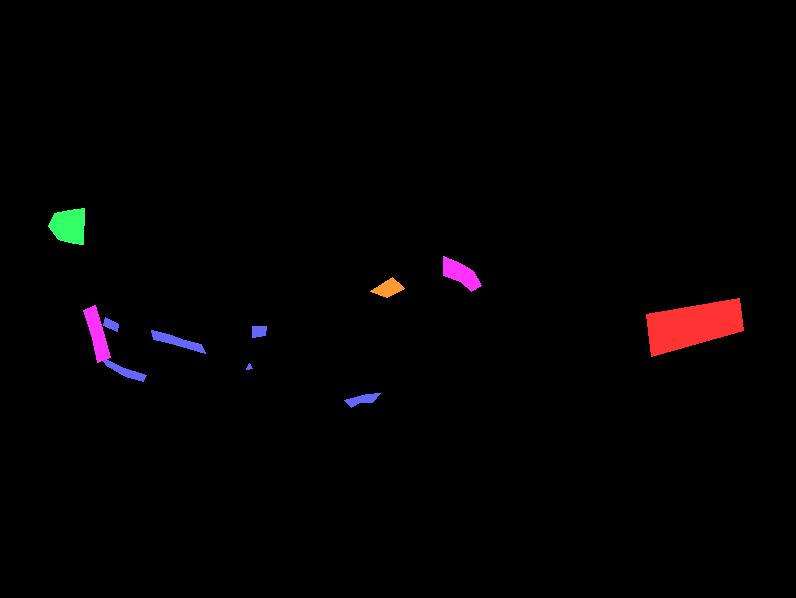Broken part: (48, 208, 84, 244)
Dent: (83, 305, 110, 362), (443, 256, 481, 291)
Missing part: (646, 298, 743, 356)
Paint chip: (370, 277, 404, 297), (86, 310, 98, 322)
Scratch: (151, 330, 205, 353), (100, 356, 146, 381), (344, 393, 380, 407), (103, 317, 118, 331), (252, 326, 266, 337), (246, 363, 252, 369)
